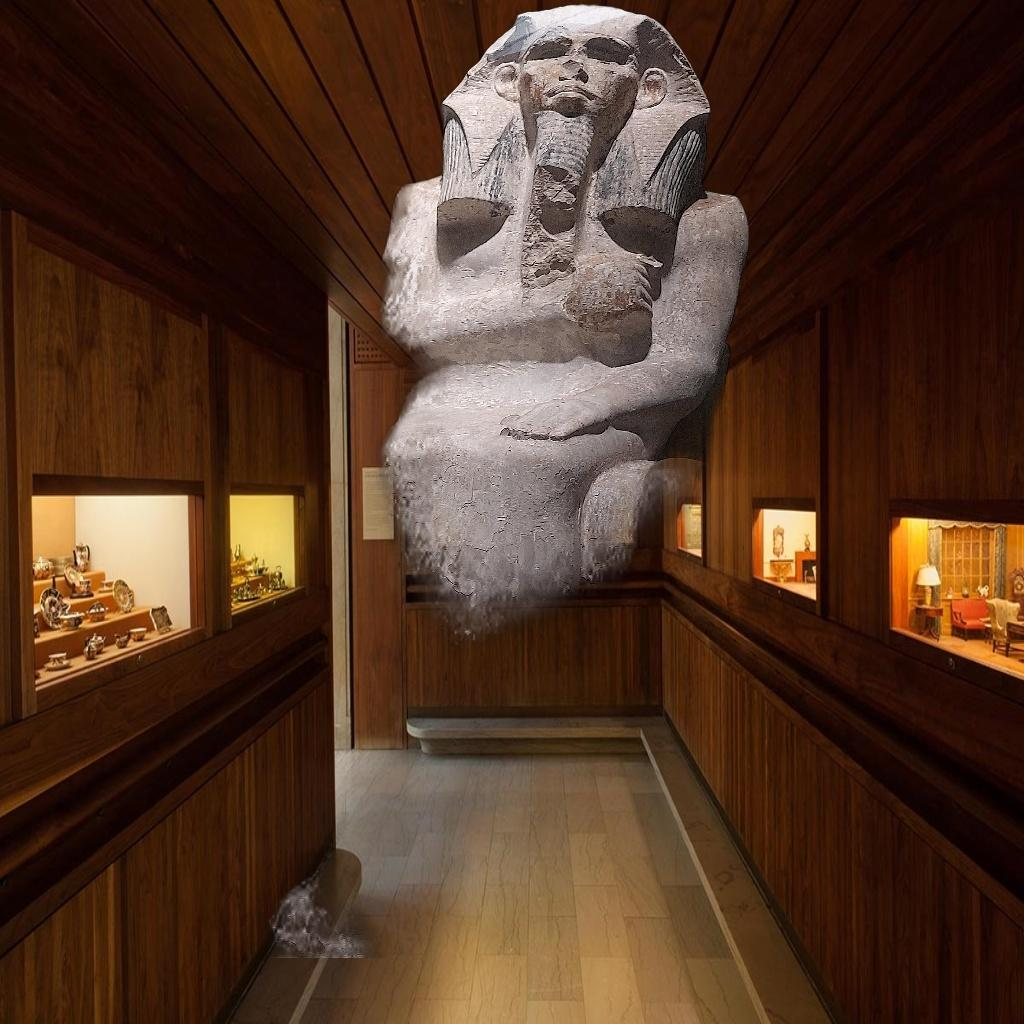Seated Statue of Djoser: (230, 4, 756, 958)
